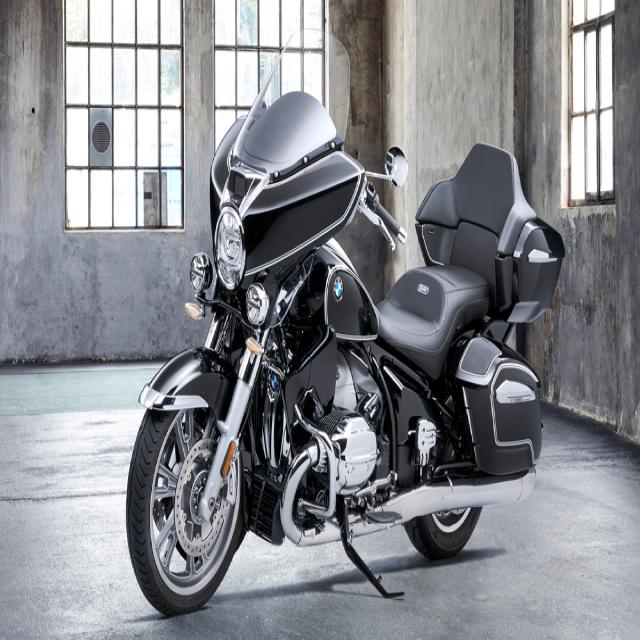Motorcycle: (126, 32, 565, 616)
